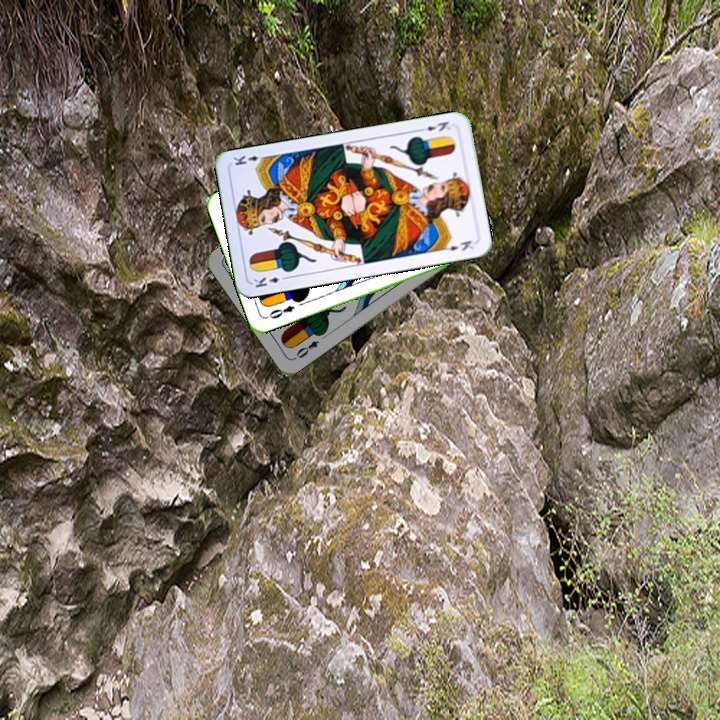EK: (250, 272, 290, 290), (415, 117, 453, 134)
EO: (290, 336, 322, 362), (262, 301, 297, 321)
